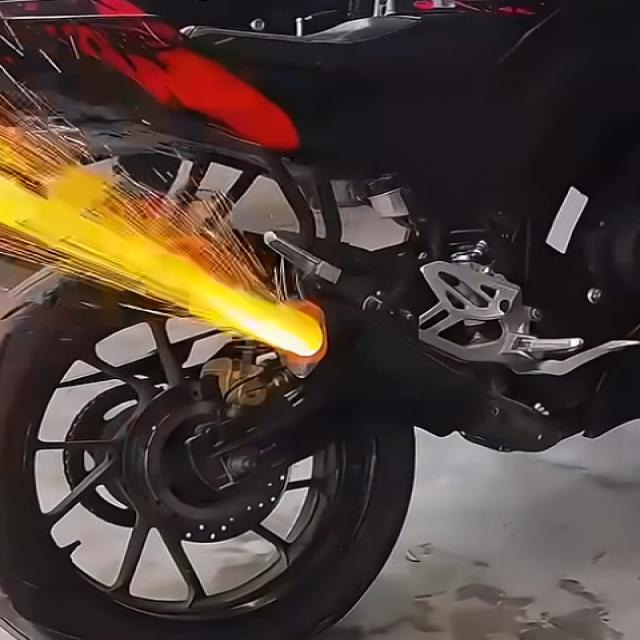fire: (2, 128, 322, 357)
